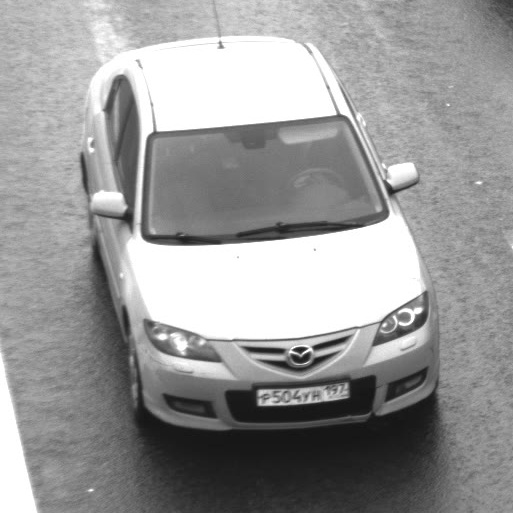plate: (246, 373, 356, 415)
